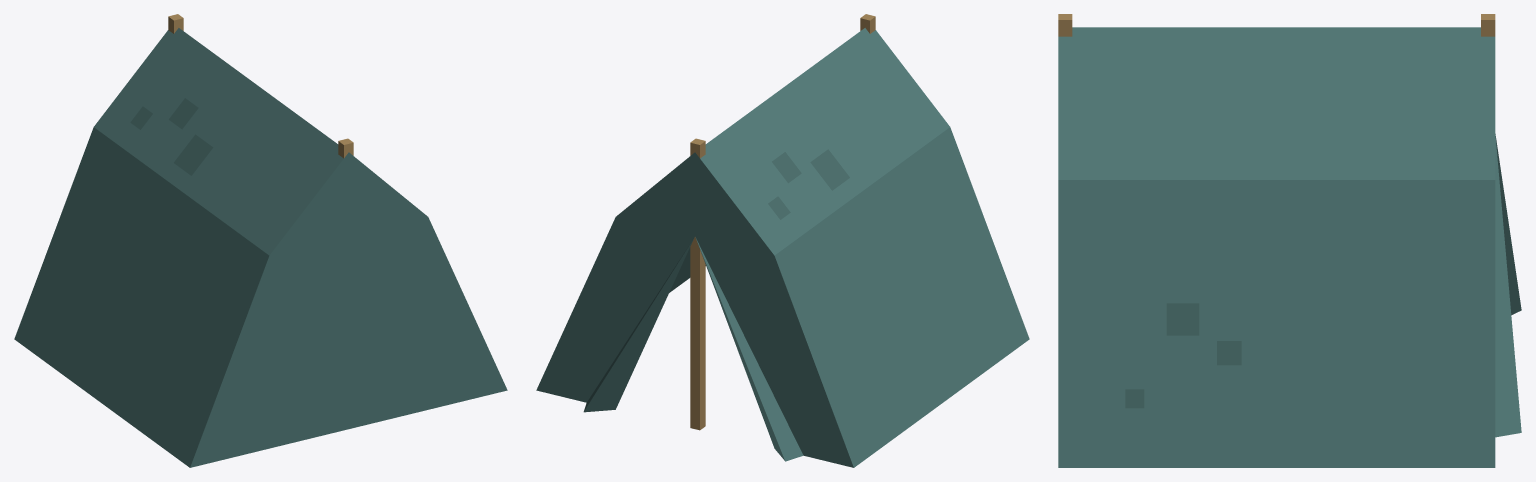
The model's file is naturePack_076.obj.
3 views of the same model, side by side, from view 1: azimuth 30°, elevation 25°; view 2: azimuth 150°, elevation 25°; view 3: azimuth 270°, elevation 25° (orthographic). The views are drawn at different scales.
Parts seen in each view (by area): view 1: Mesh1_Group1_Model.054; view 2: Mesh1_Group1_Model.054; view 3: Mesh1_Group1_Model.054.
Boxes of the visible parts, x1=… form: Mesh1_Group1_Model.054: x1=14, y1=14, x2=507, y2=467; Mesh1_Group1_Model.054: x1=536, y1=14, x2=1029, y2=467; Mesh1_Group1_Model.054: x1=1058, y1=14, x2=1521, y2=467.
Bounding box in the file's own units: 3.36 × 2.88 × 3.42.
